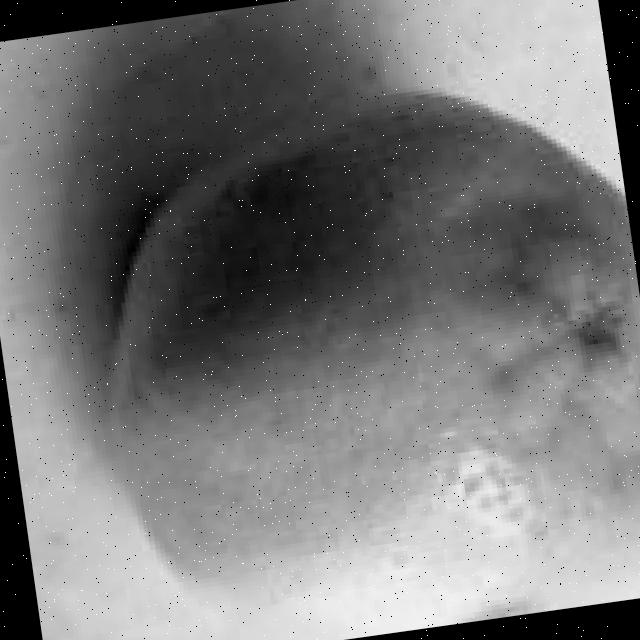Good_Orange-15-21 days: (95, 85, 640, 640)
